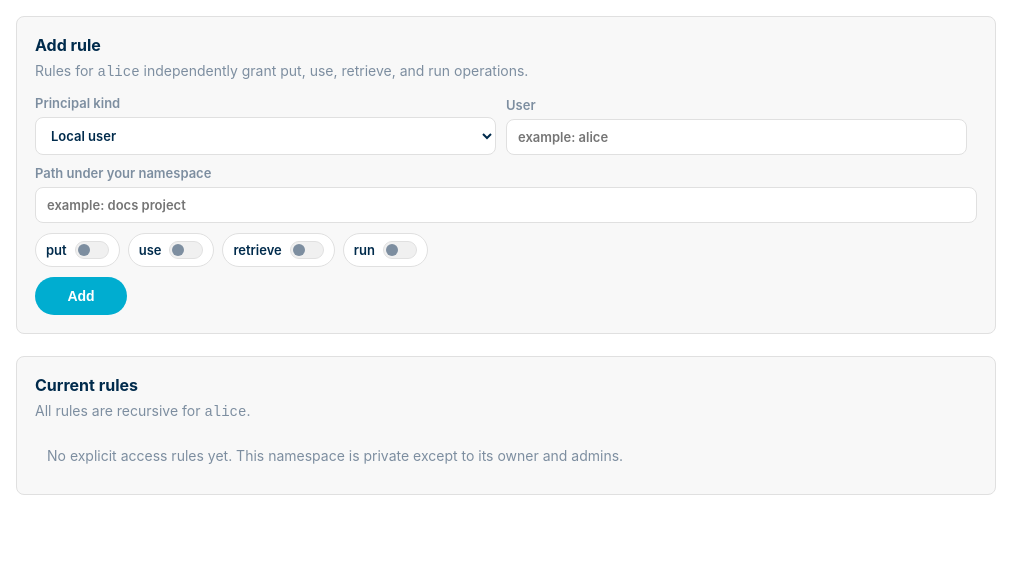
Test: AccessPanel › preserves actionable input and rejects false or absent postconditions
The width and height of the screenshot is (1013, 567).
Expected: the text "No explicit access rules yet. This namespace is private except to its owner and admins." is shown, [47,447,623,464]
Select "Local user" in the dropdown labelled "Principal kind" at [266, 136], box [35,117,496,155]
Type "bob" into the field labelled "User".
click(736, 137); type("bob")  # box [506,119,967,155]
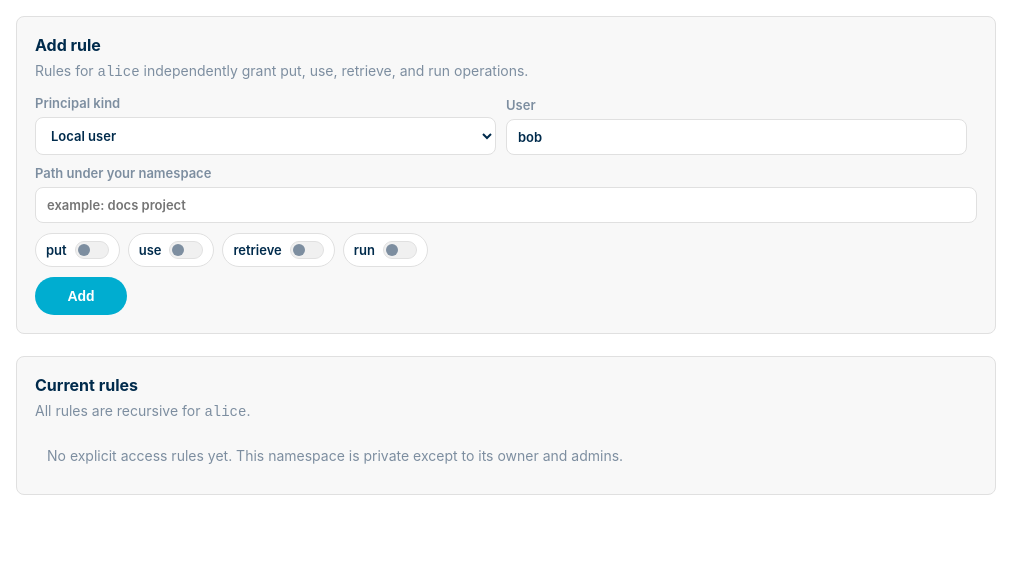
Click the checkbox labelled "use".
click(171, 250)  # box [139,241,204,259]
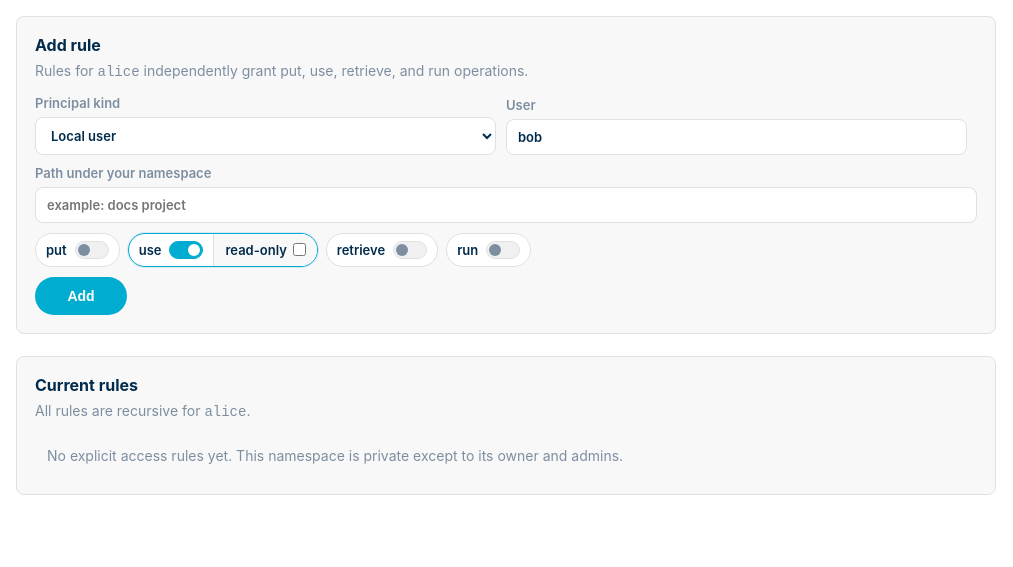
Click the checkbox labelled "read-only".
click(299, 250)  # box [293,243,306,256]
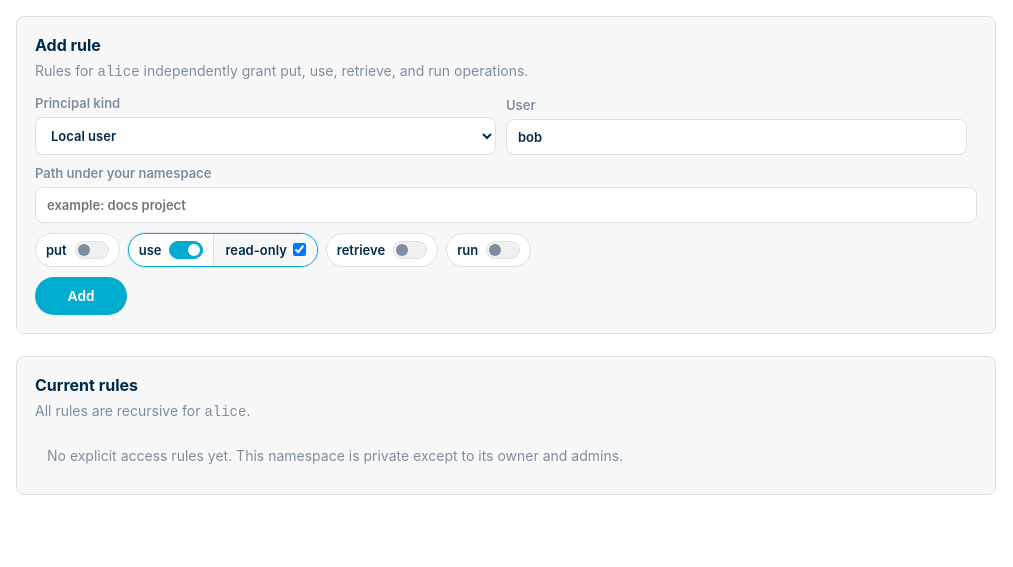
Click the button "Add".
click(81, 296)  # box [35,277,127,315]
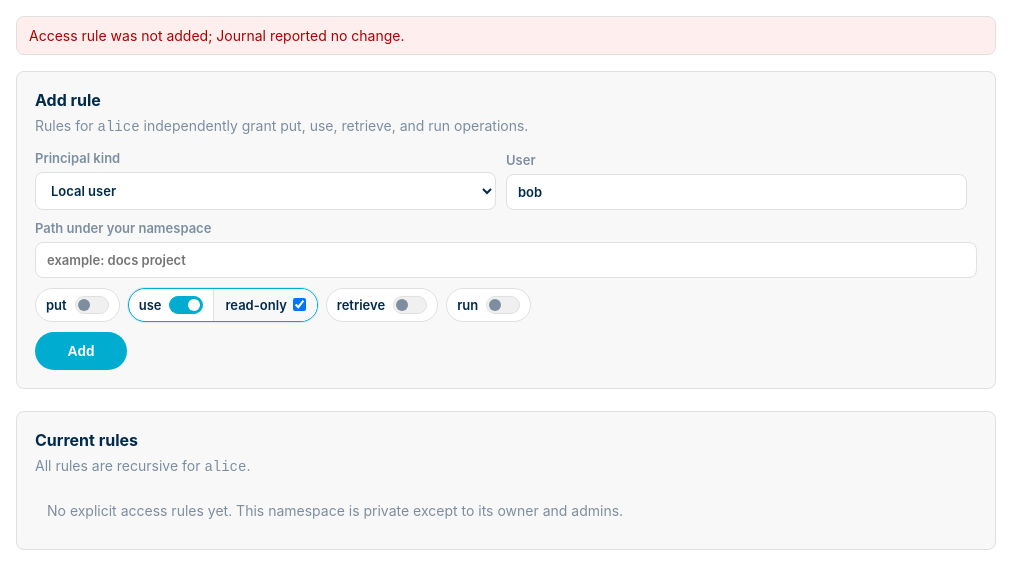
Expected: the text "Access rule was not added; Journal reported no change." is shown, [16,16,996,55]
